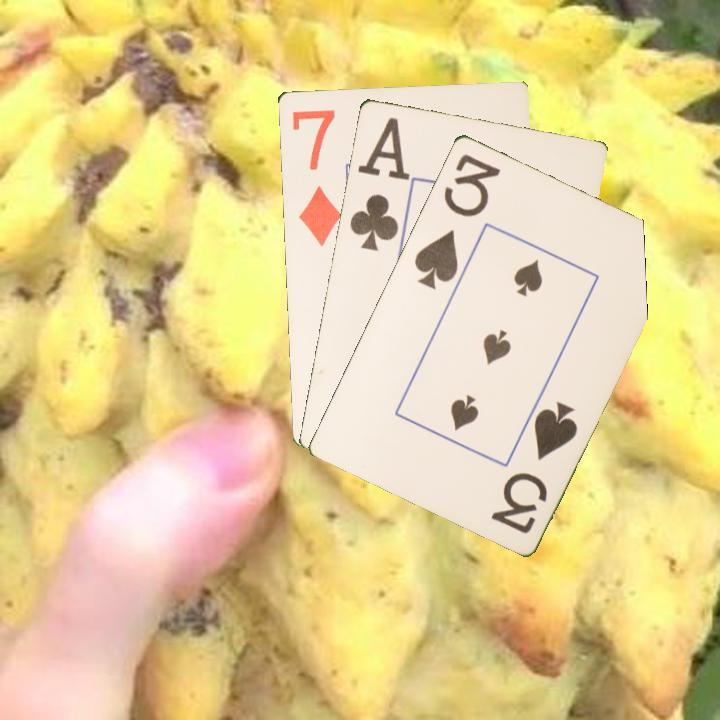3s: (410, 149, 503, 292), (487, 396, 581, 536)
7d: (288, 105, 344, 249)
Ac: (345, 113, 411, 254)
